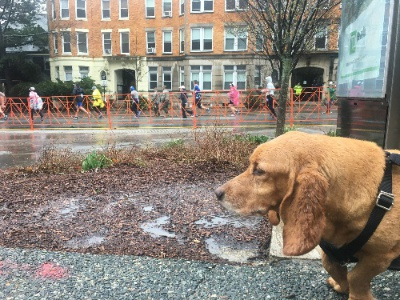daisy: (207, 118, 337, 260)
